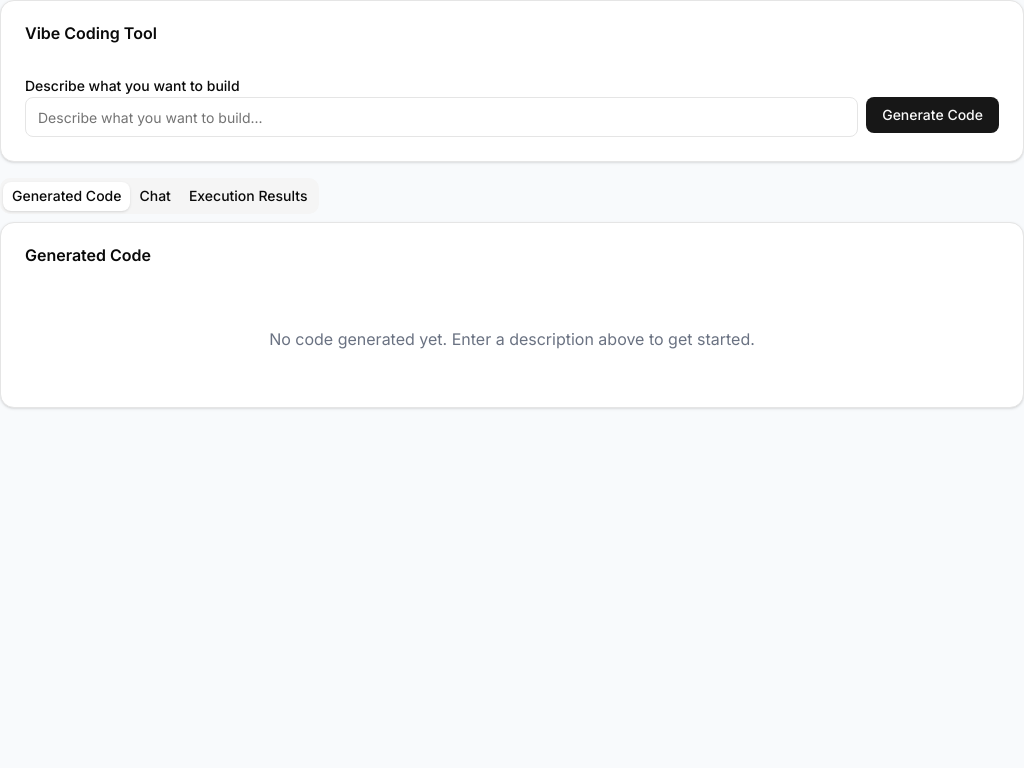
Scenario: VibeCodingTool › Chat Interface › should handle chat messages
Click on the Chat tab to make it visible
Click the tab "Chat": (155, 196) [130, 182, 180, 210]
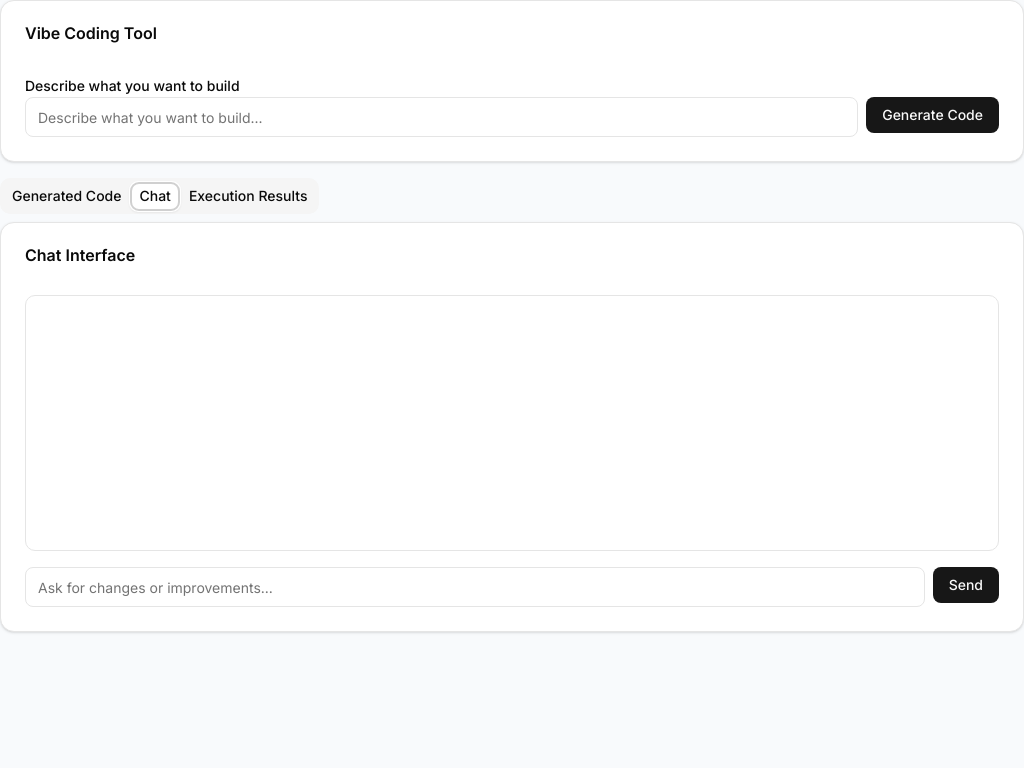
In the field with test id "chat-input": (475, 587) [25, 567, 925, 607], type "Can you add error handling?"
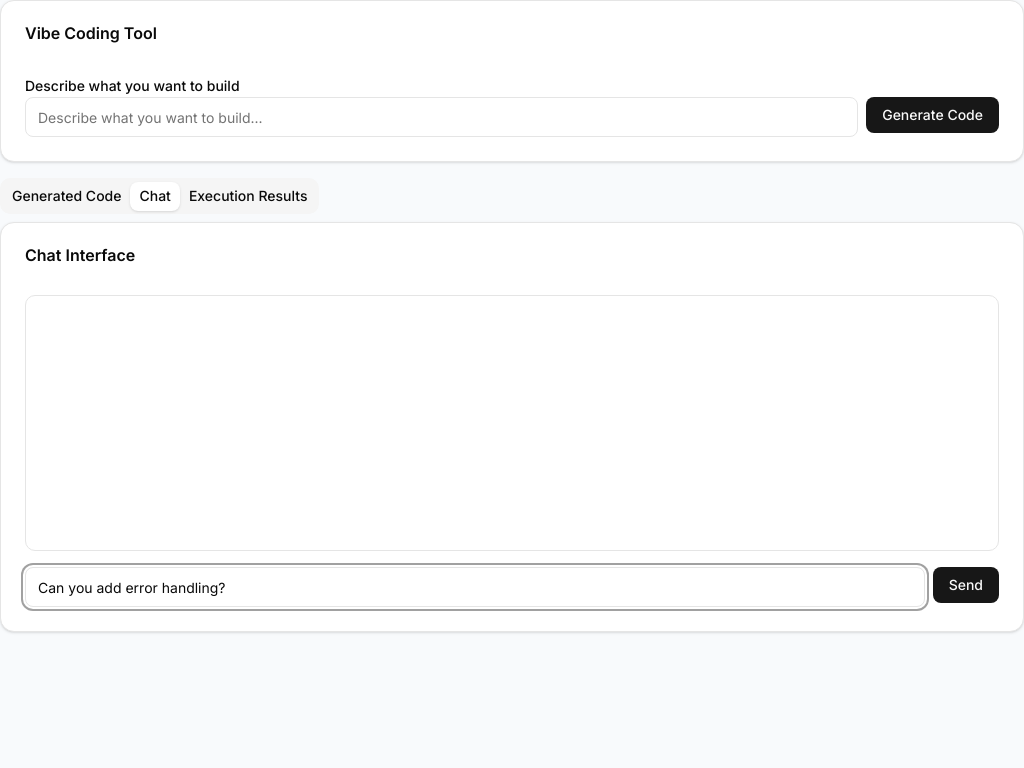
Click the button "Send": (966, 585) [933, 567, 999, 603]
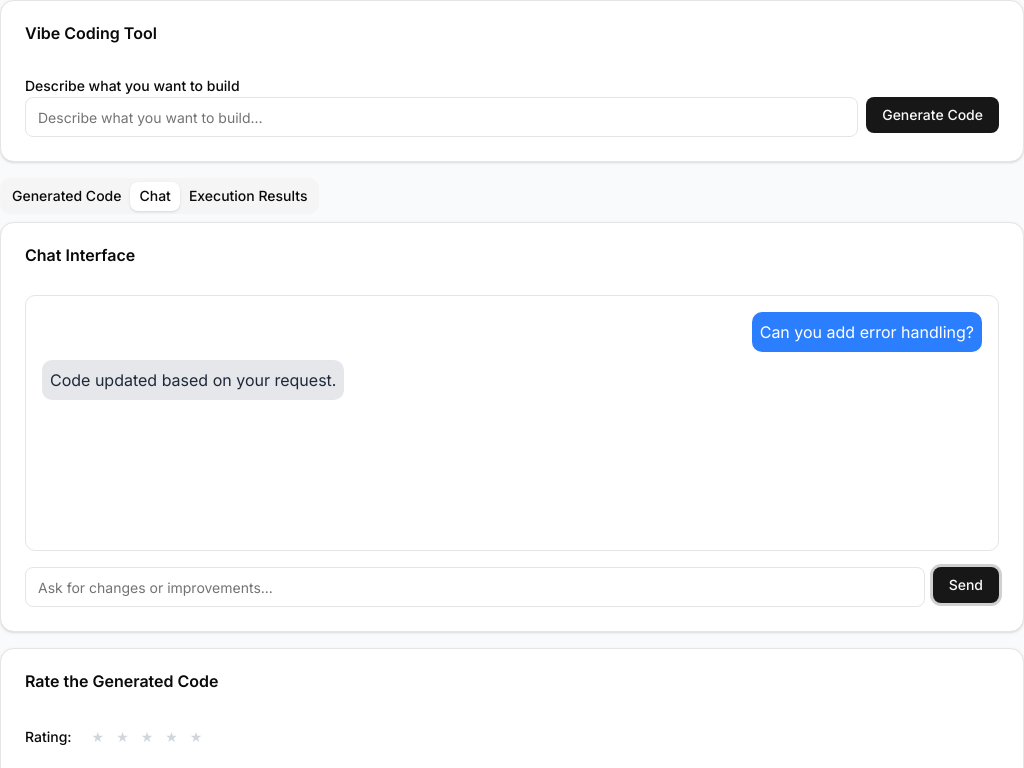
Now the text "Can you add error handling?" is shown, box [752, 312, 982, 352]
